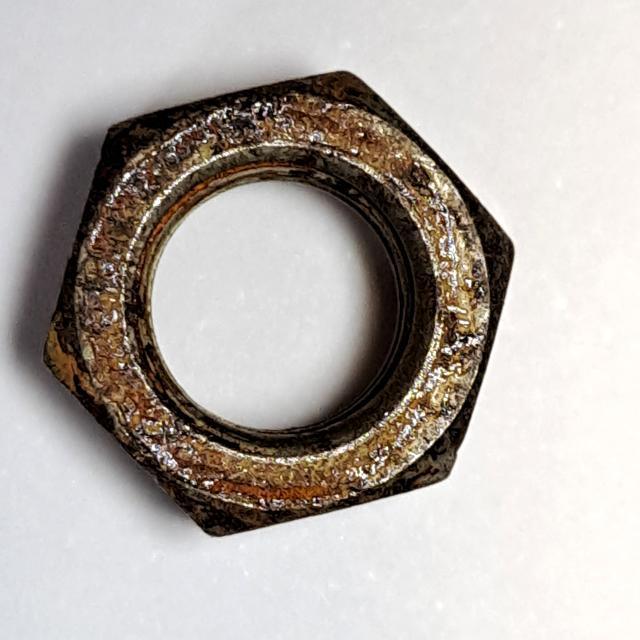Rust: (30, 55, 524, 553)
